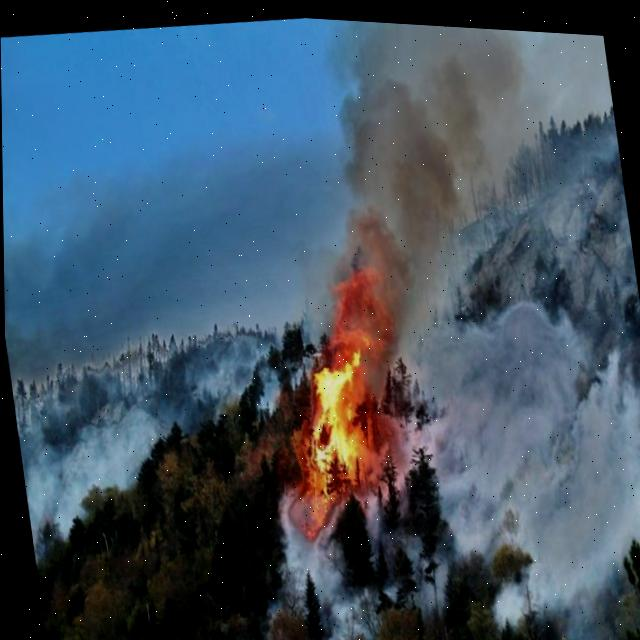fire: (299, 354, 386, 495), (328, 276, 392, 353)
smoke: (2, 157, 330, 377), (414, 310, 640, 557), (326, 18, 510, 253), (503, 132, 640, 318), (15, 392, 146, 509), (487, 23, 616, 133), (279, 495, 373, 640)
